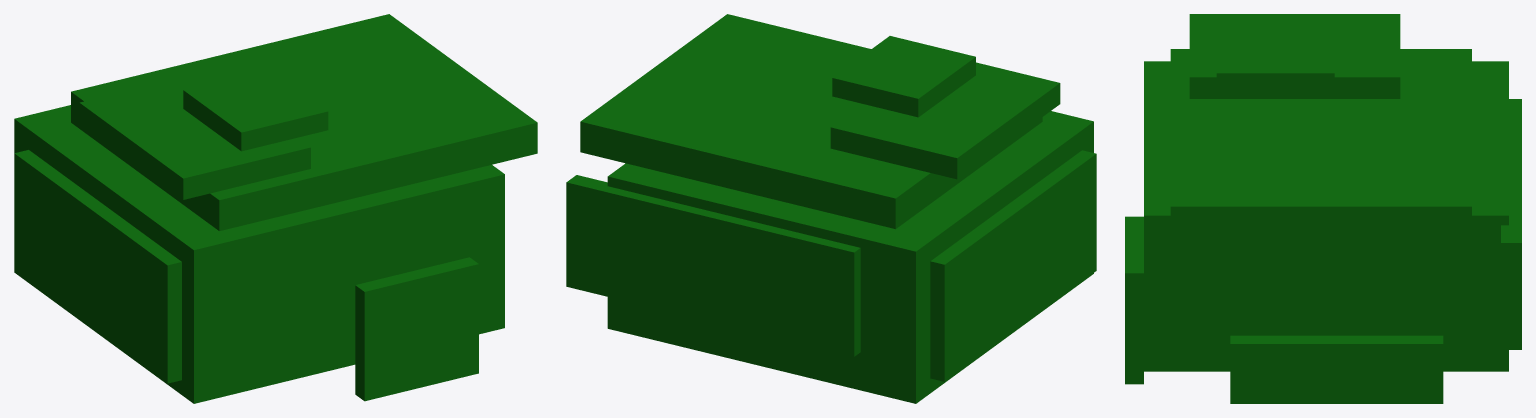
The model's file is SM_TreeFoliage.FBX.
3 renders of one model, left to right at view 1: azimuth 30°, elevation 25°; view 2: azimuth 150°, elevation 25°; view 3: azimuth 270°, elevation 25°, orthographic. The views are drawn at different scales.
Visible parts, largest first — view 1: Box035; view 2: Box035; view 3: Box035.
Boxes of the visible parts, bbox=[...] form: Box035: bbox=[14, 14, 537, 403]; Box035: bbox=[566, 14, 1096, 403]; Box035: bbox=[1125, 14, 1521, 403].
Bounding box in the file's own units: 56.7 × 37.16 × 51.68.
